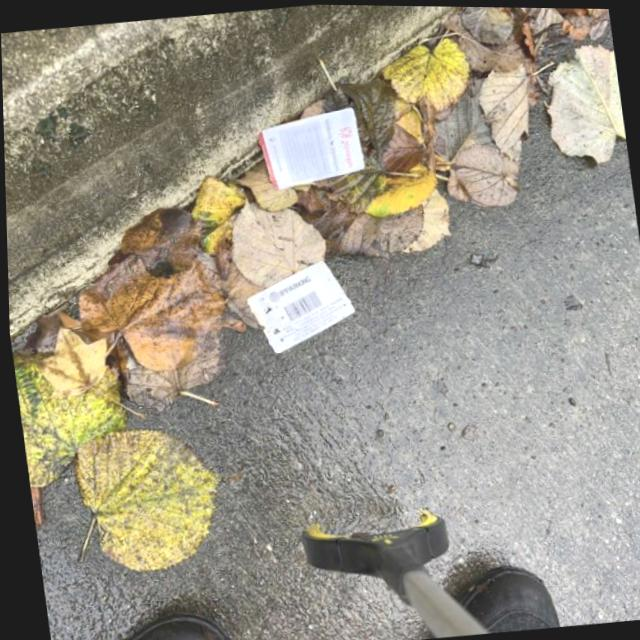Paper: (236, 253, 358, 357), (250, 101, 367, 192)
